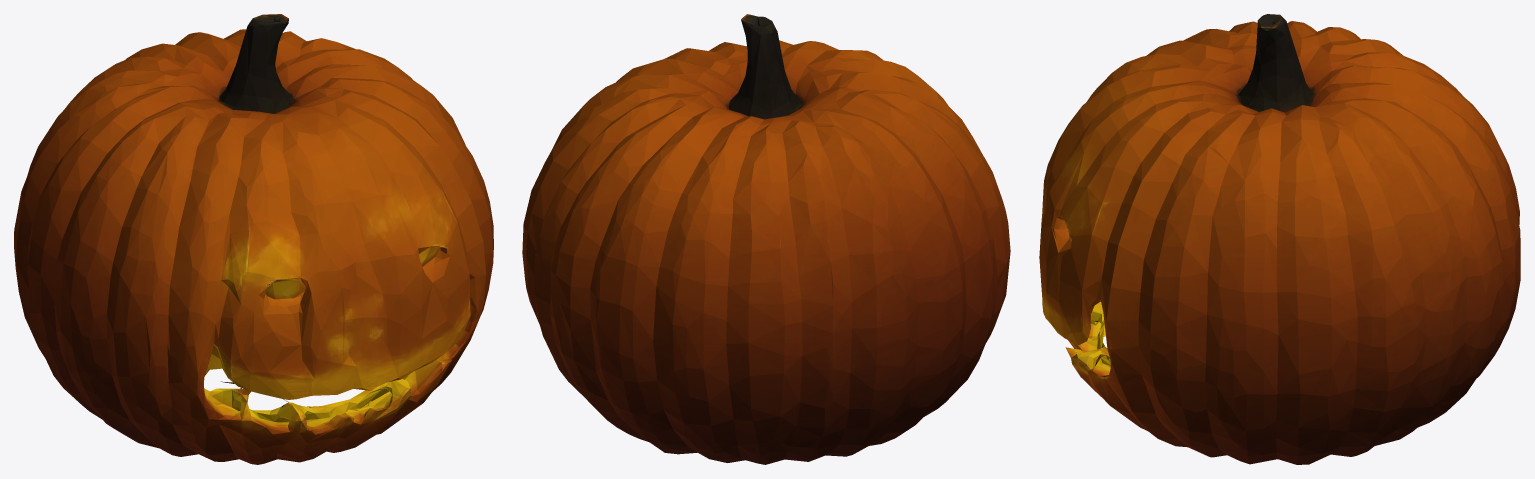
Rendered from pumpkin_jackolantern.glb.
3 views of the same model, side by side, from view 1: azimuth 30°, elevation 25°; view 2: azimuth 150°, elevation 25°; view 3: azimuth 270°, elevation 25° (orthographic). The views are drawn at different scales.
Visible parts, largest first — view 1: geometry_0; view 2: geometry_0; view 3: geometry_0.
Part boxes in pixels (x1,y1,x2,y2): geometry_0: (14, 14, 493, 464); geometry_0: (522, 14, 1010, 464); geometry_0: (1039, 14, 1520, 464).
Size of the model in its own units: 0.4954 by 0.4564 by 0.4939.
Materials: 1 (1 with a texture image).
